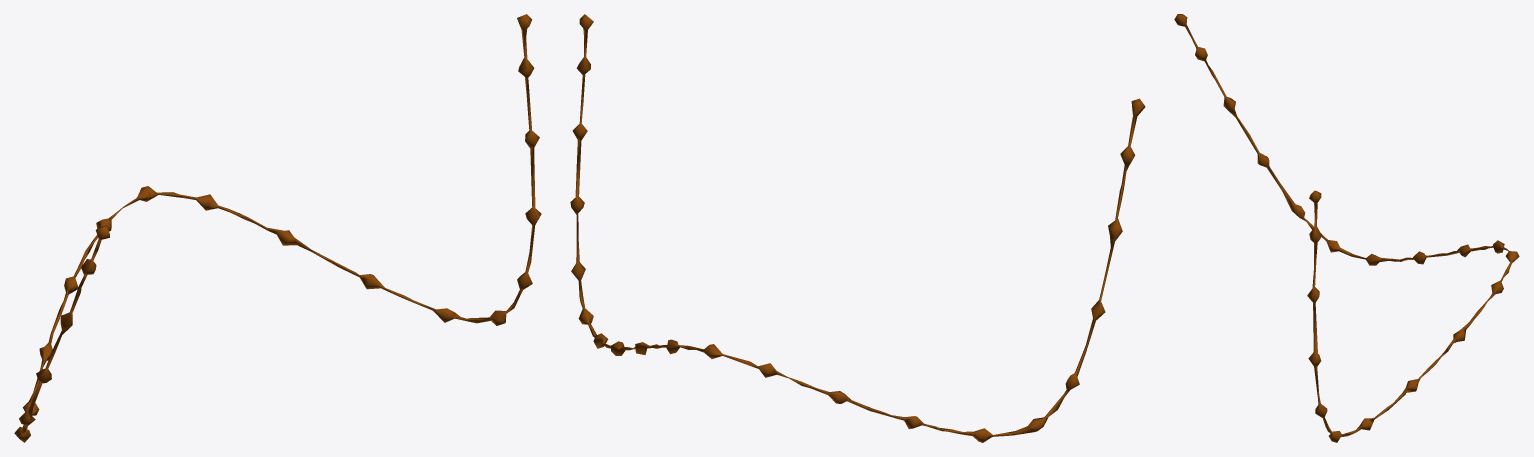
File: daykinh.glb
3 views of the same model, side by side, from view 1: azimuth 30°, elevation 25°; view 2: azimuth 150°, elevation 25°; view 3: azimuth 270°, elevation 25° (orthographic). The views are drawn at different scales.
Parts seen in each view (by area): view 1: Day_Kinh; view 2: Day_Kinh; view 3: Day_Kinh.
Boxes of the visible parts, x1,y1,x2,y2 form: Day_Kinh: (14,14,541,442); Day_Kinh: (570,14,1145,442); Day_Kinh: (1174,14,1519,442).
Size of the model in its own units: 0.2375 by 0.1351 by 0.1635.
